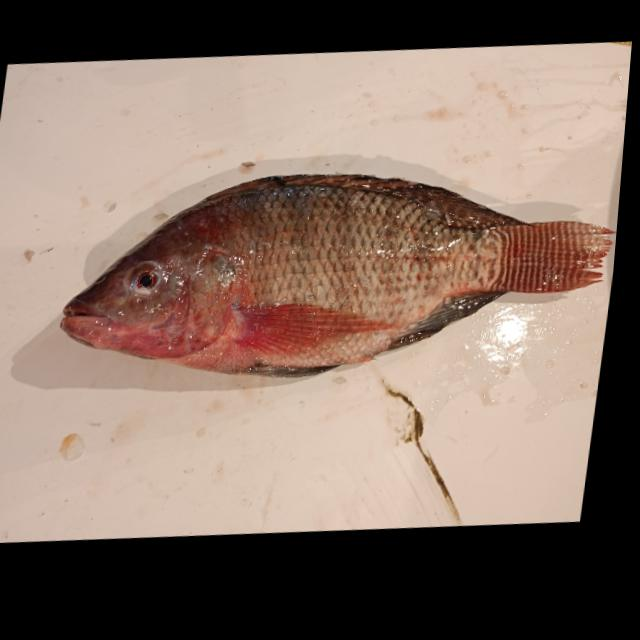Tilapia: (51, 130, 625, 416)
